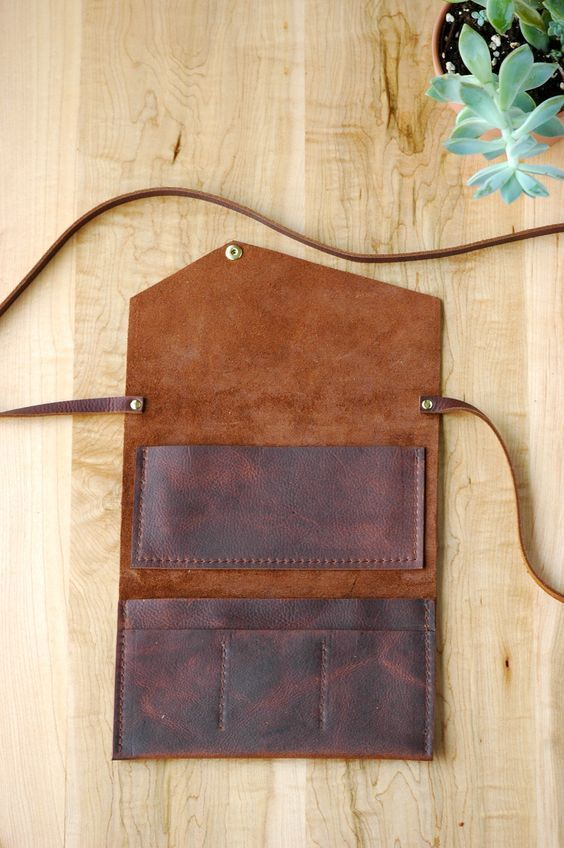cuero: (117, 443, 442, 755)
